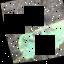Morning glory: (1, 0, 64, 64)
